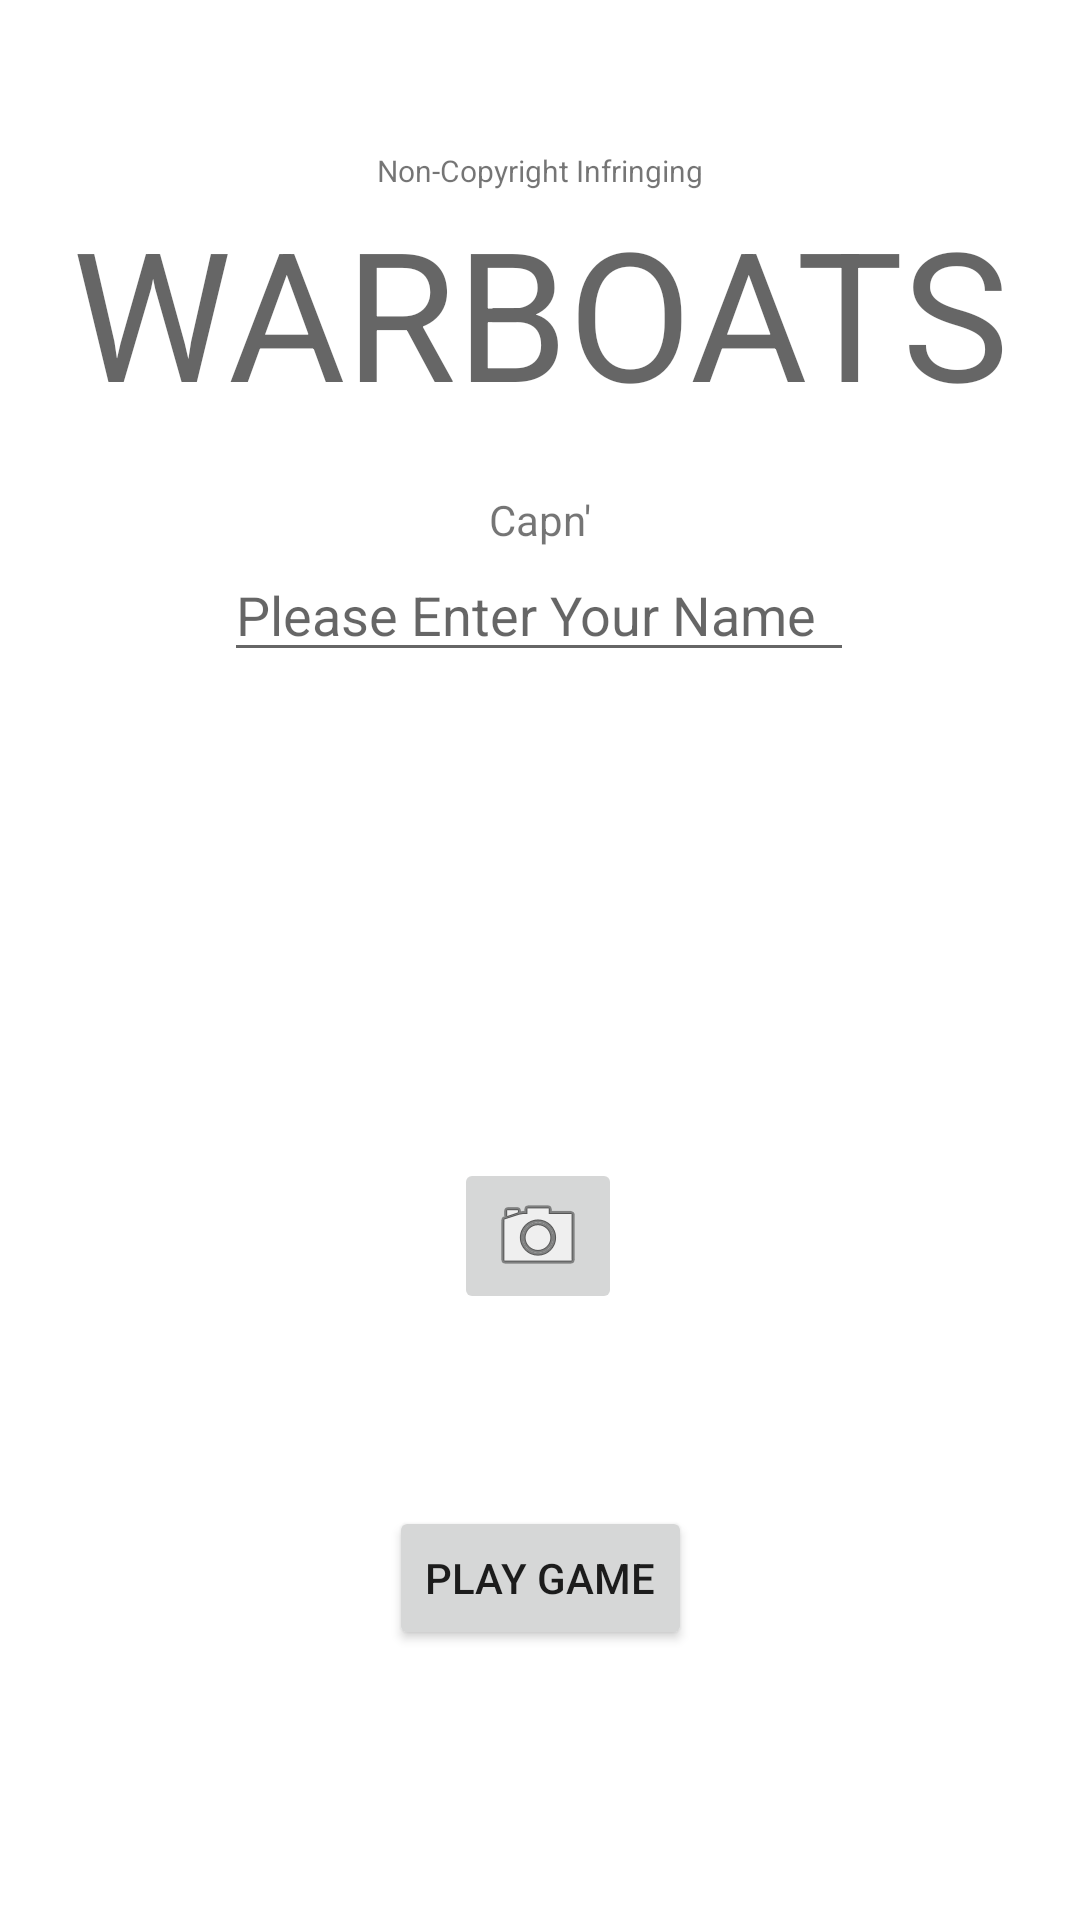

Icons on this 1080w x 1920h Android screen, each with the point to tap as (x=x, y=y):
camera: (x=538, y=1236)
